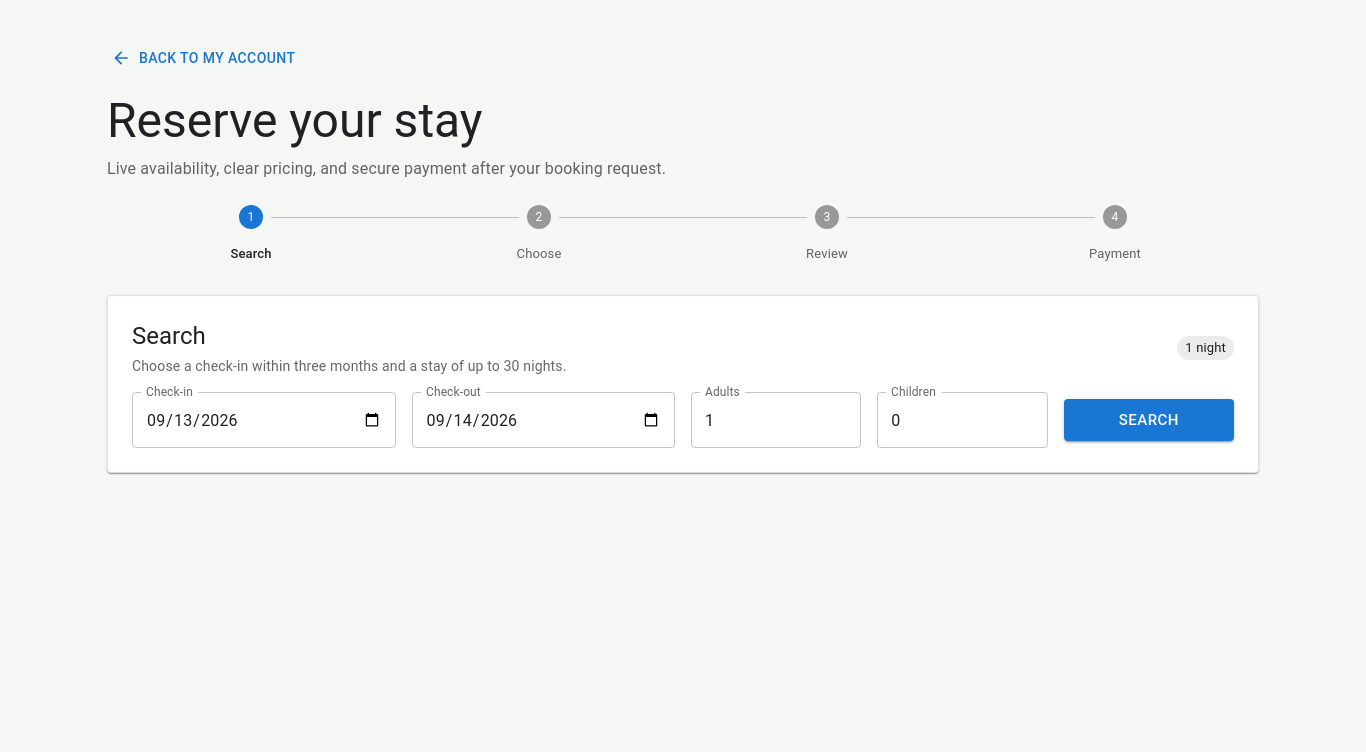
PortalBookingPage complimentary nights › stays hidden when the guest holds no credits for the selected room type
This screenshot has width=1366, height=752.
Click the button "Search" at {"x": 1149, "y": 420}, box [1064,399,1234,441]
(page scrolled)
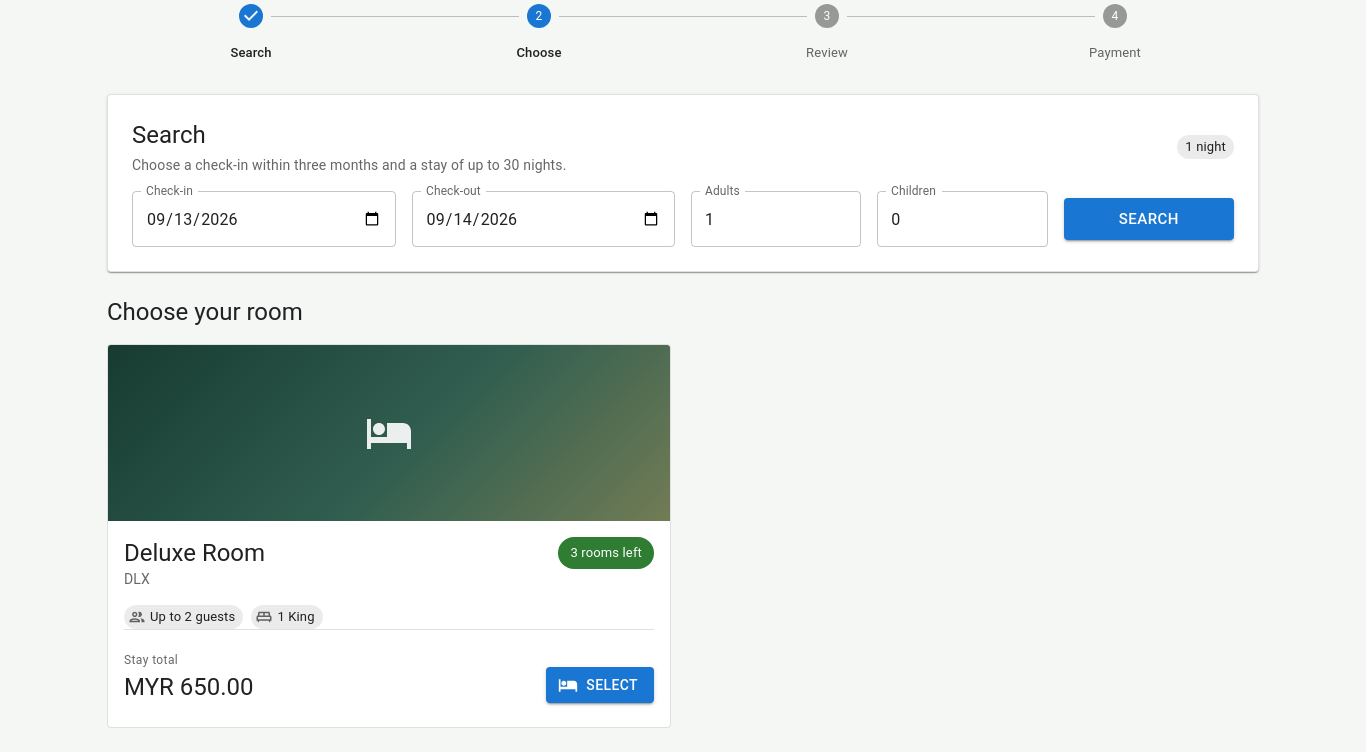
Click the button "Select" at {"x": 600, "y": 685}, box [546,667,654,703]
(page scrolled)
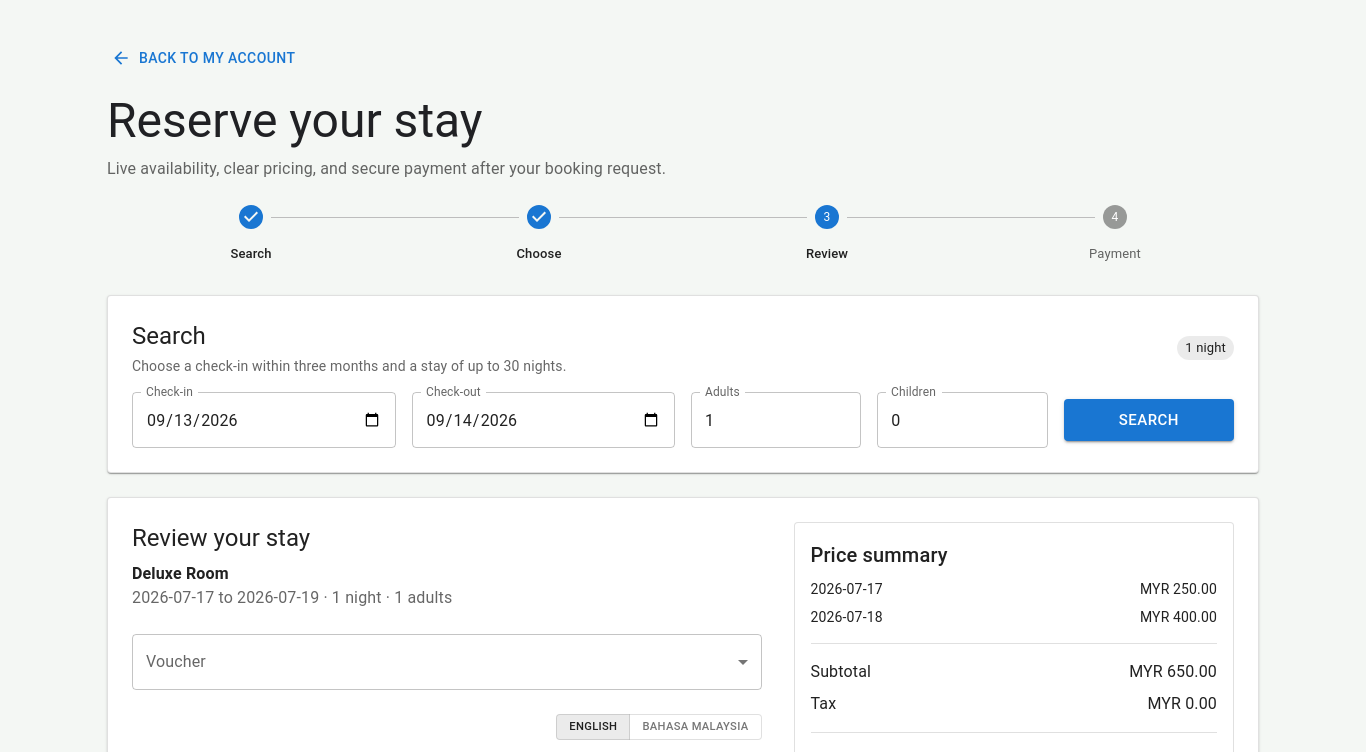
Now the heading "Review your stay" is shown, box [132,524,310,552]
